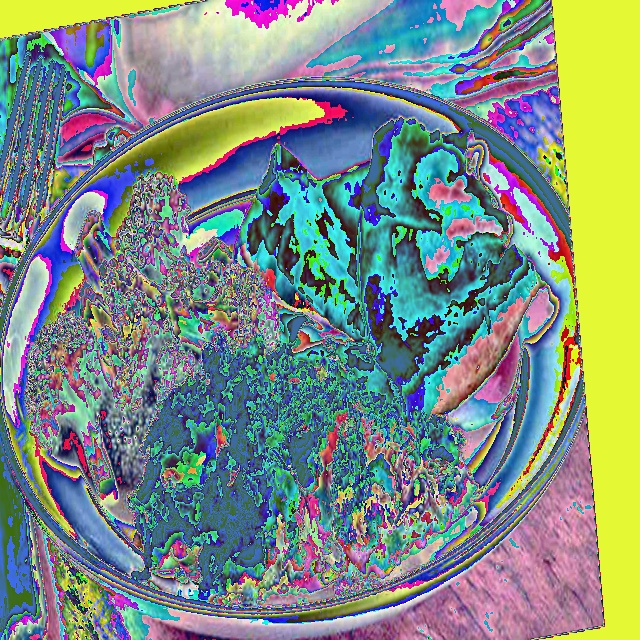background: (24, 111, 548, 610)
